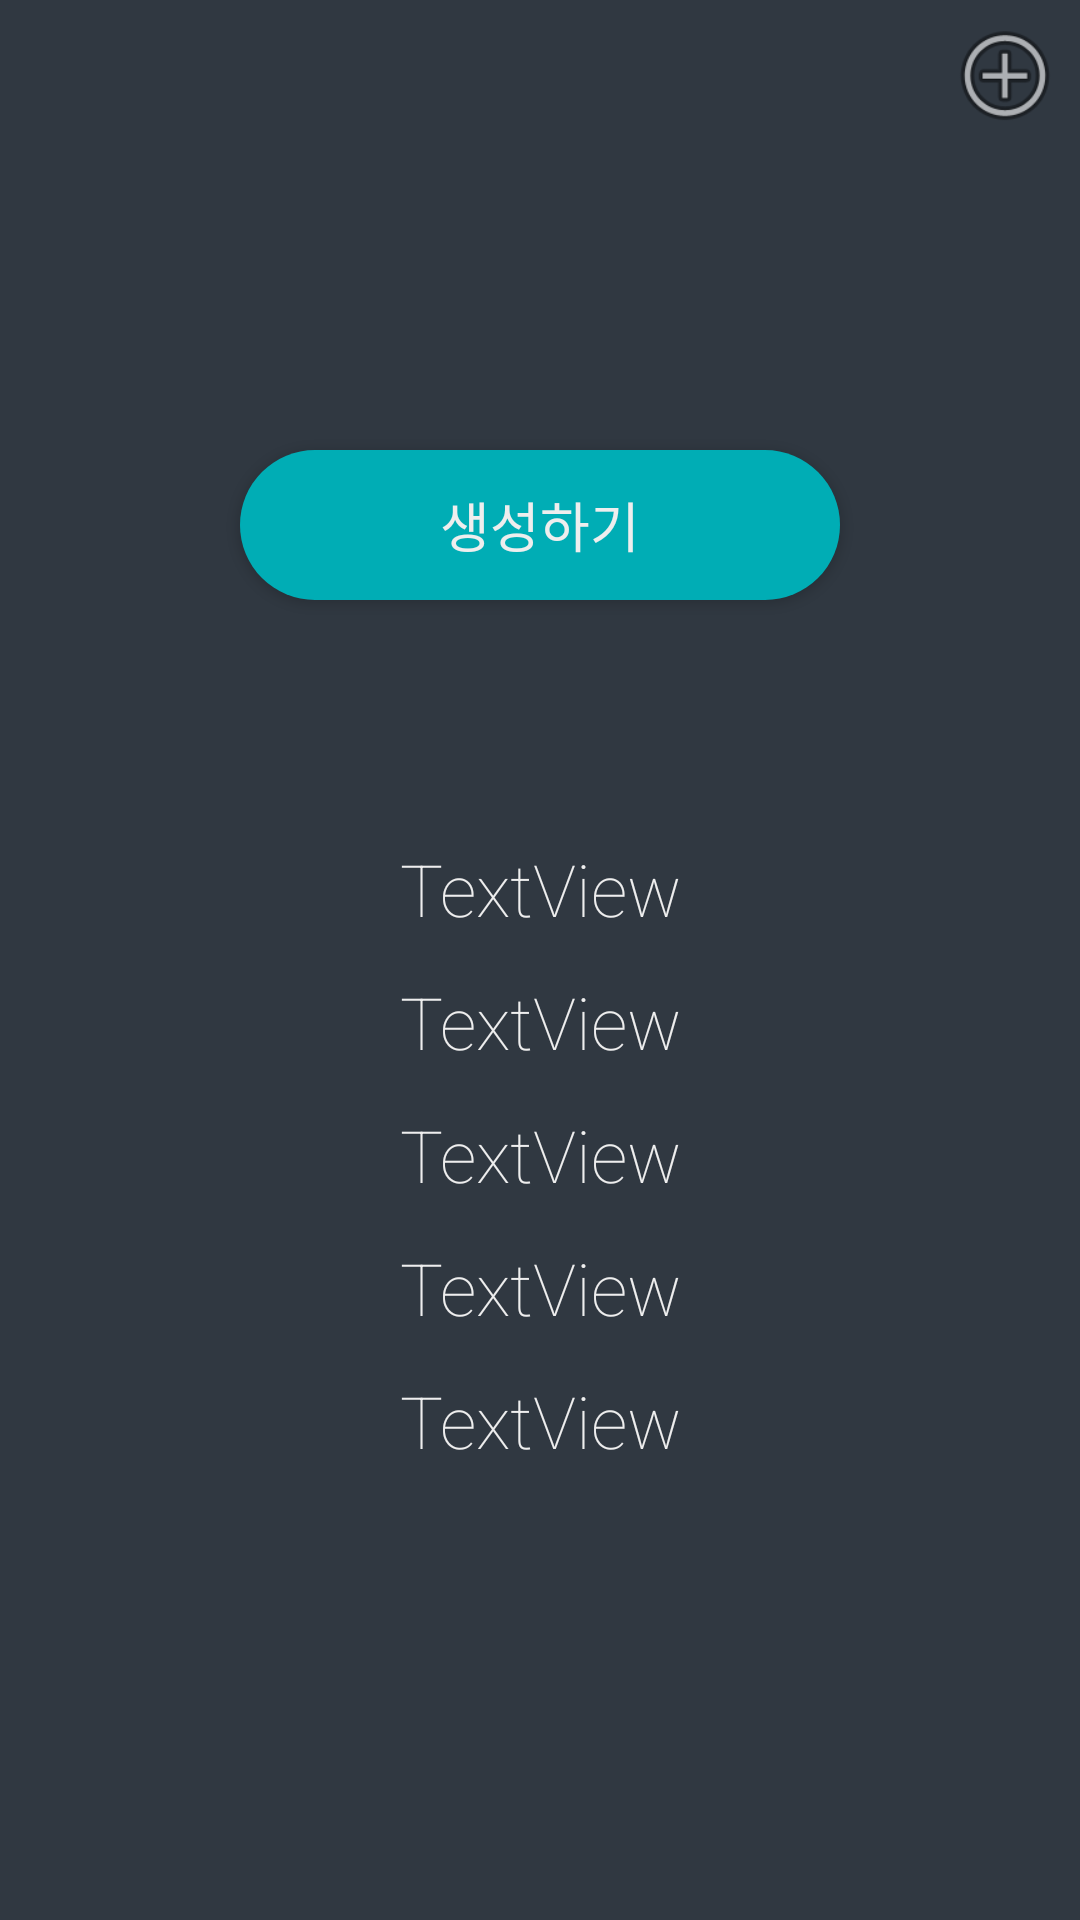

Screen size 1080×1920. Icon name, then its box in pixels as (x1, y1, x2, y2):
add: (962, 33, 1048, 119)
